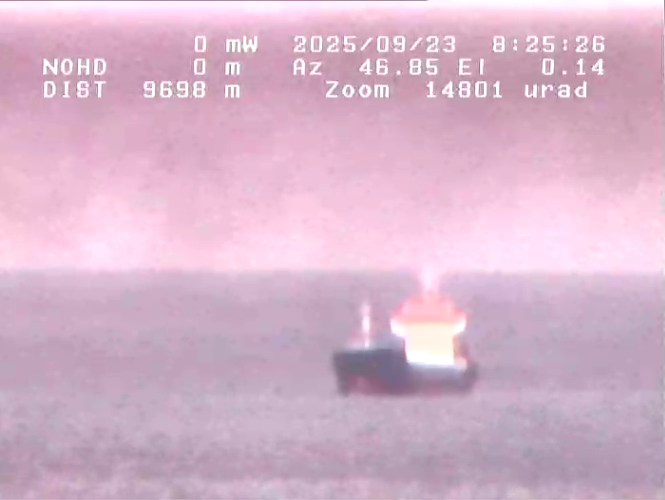TANKER: (326, 263, 488, 420)
